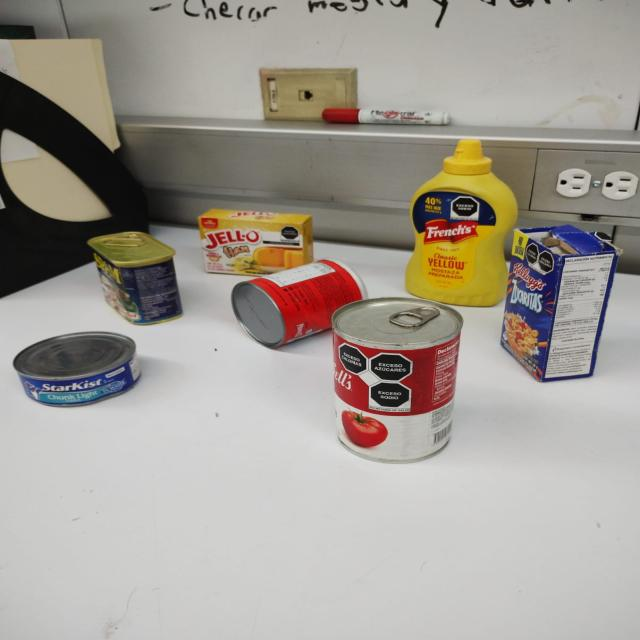can of cream: (329, 297, 461, 459)
can of tuna: (13, 332, 139, 406)
cereal: (501, 226, 619, 382)
chips: (230, 258, 370, 348)
jelly: (197, 208, 315, 278)
mustard: (405, 139, 518, 306)
spam: (87, 232, 185, 326)
